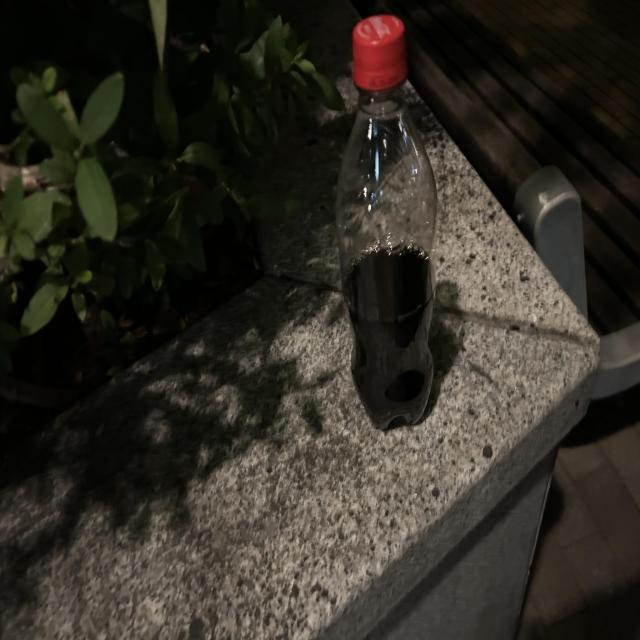medium: (336, 15, 438, 429)
